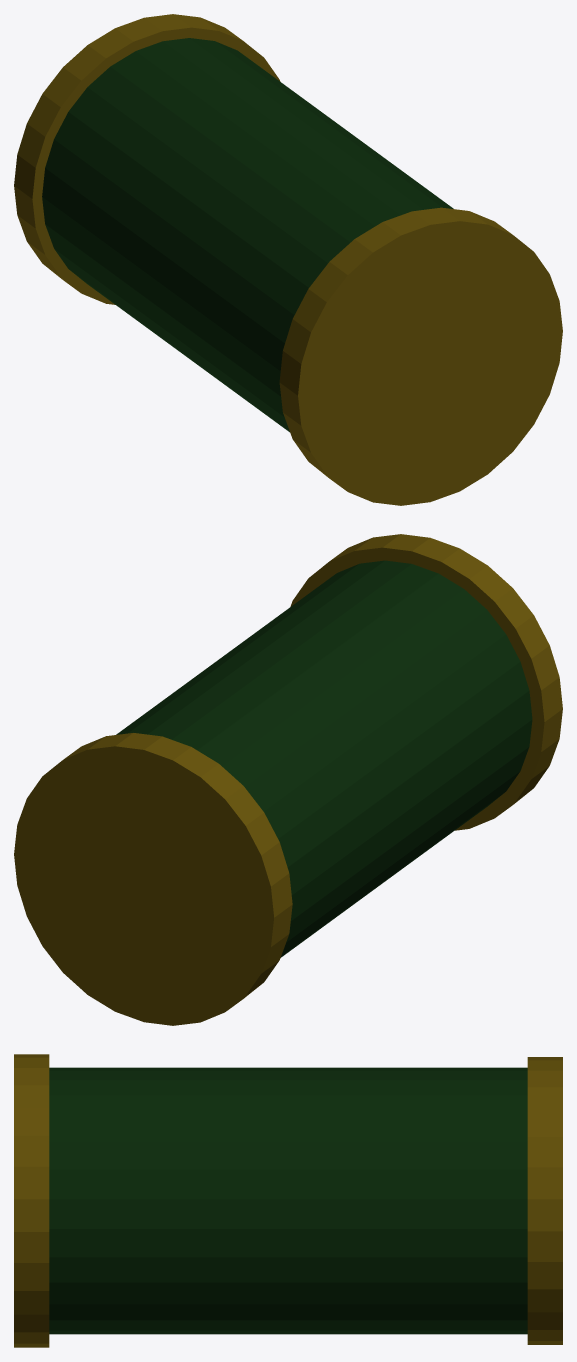
Rendered from mekaGanMagazin.fbx.
3 views of the same model, one above another, from view 1: azimuth 30°, elevation 25°; view 2: azimuth 150°, elevation 25°; view 3: azimuth 270°, elevation 25° (orthographic). The views are drawn at different scales.
Parts seen in each view (by area): view 1: 立方体.010; view 2: 立方体.010; view 3: 立方体.010.
Boxes of the visible parts, left/top/right/bottom form: 立方体.010: left=14, top=14, right=562, bottom=505; 立方体.010: left=14, top=534, right=562, bottom=1025; 立方体.010: left=14, top=1054, right=562, bottom=1347.
Bounding box in the file's own units: 11.92 × 11.92 × 22.31.
